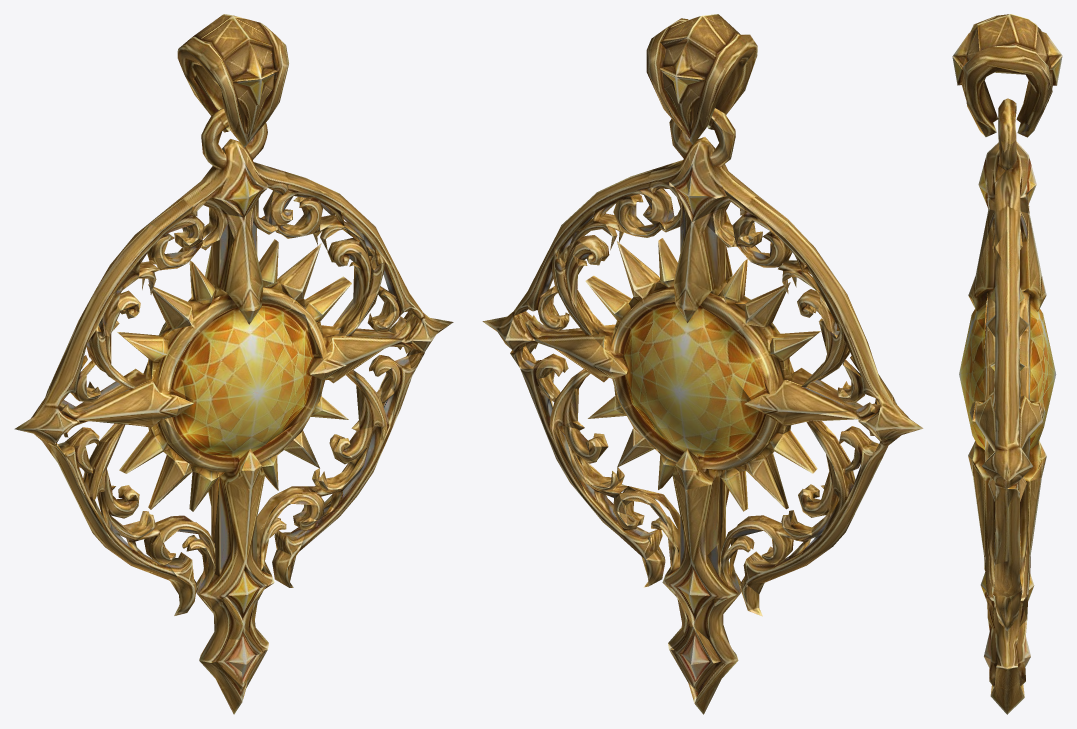
The model's file is set-radiance-amulet.glb.
3 views of the same model, side by side, from view 1: azimuth 30°, elevation 25°; view 2: azimuth 150°, elevation 25°; view 3: azimuth 270°, elevation 25° (orthographic).
Visible parts, largest first — view 1: Motion_Control; view 2: Motion_Control; view 3: Motion_Control.
Part boxes in pixels (x1=…): Motion_Control: x1=14, y1=14, x2=453, y2=714; Motion_Control: x1=482, y1=14, x2=923, y2=714; Motion_Control: x1=952, y1=14, x2=1062, y2=714.
Size of the model in its own units: 1.32 by 2 by 0.2849.
Materials: 1 (1 with a texture image).
